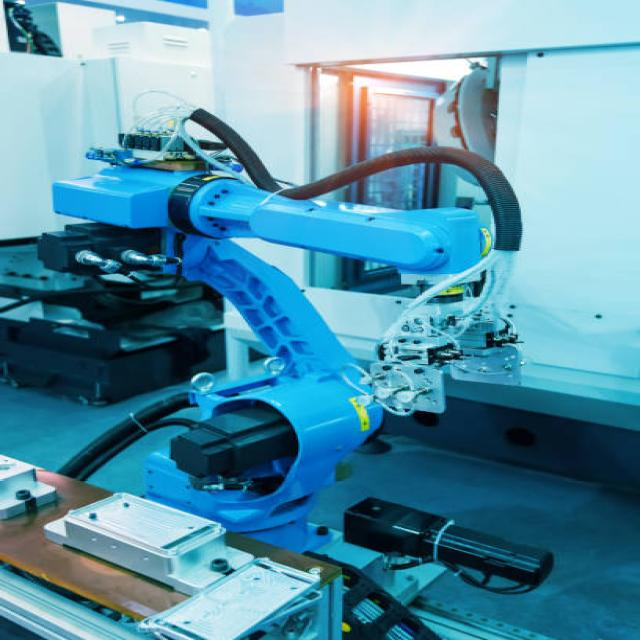Robotic-arm: (47, 130, 501, 522)
